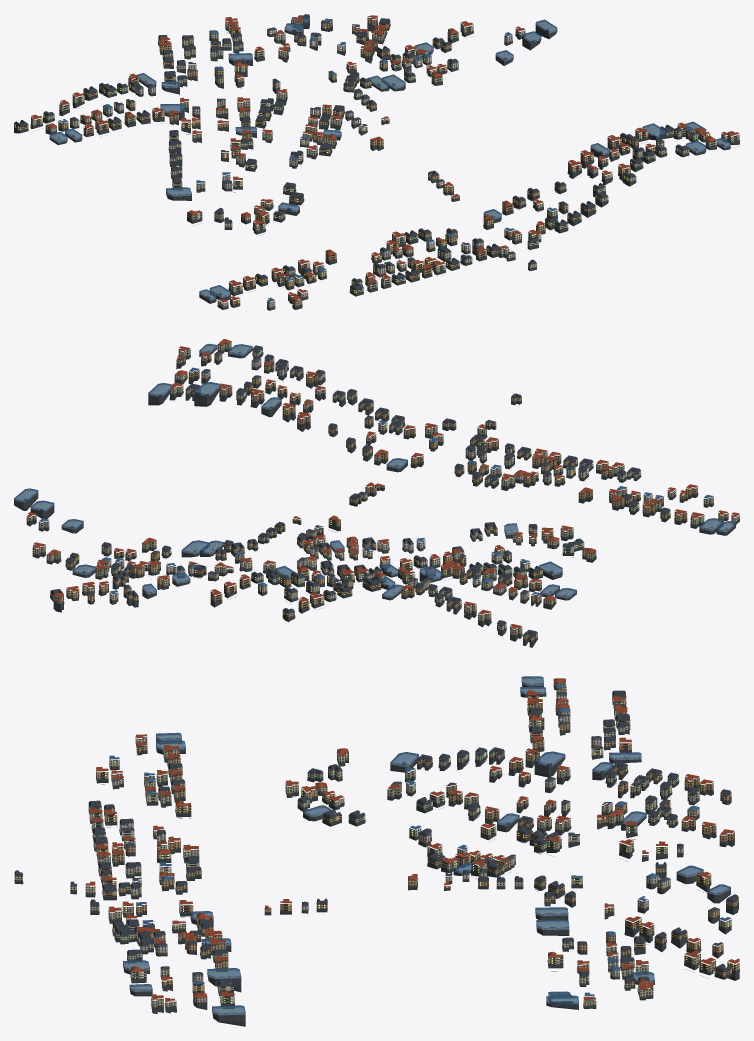
Rendered from osm_buildings_T_E02_N02_Q2.glb.
The picture shows the model from 3 angles, top to bottom: view 1: azimuth 30°, elevation 25°; view 2: azimuth 150°, elevation 25°; view 3: azimuth 270°, elevation 25°; orthographic projection. The views are drawn at different scales.
Parts seen in each view (by area): view 1: OSM_T_E02_N02_Q2_foundation, OSM_T_E02_N02_Q2_wall_cream_stucco, OSM_T_E02_N02_Q2_wall_french_ochre, OSM_T_E02_N02_Q2_roof_terracotta, OSM_T_E02_N02_Q2_roof_mansard_slate, OSM_T_E02_N02_Q2_greenhouse_blend, OSM_T_E02_N02_Q2_roof_mansard_deck, OSM_T_E02_N02_Q2_roof_mint_metal, OSM_T_E02_N02_Q2_wall_warm_white, OSM_T_E02_N02_Q2_wall_pastel_sand, OSM_T_E02_N02_Q2_balcony_railing, OSM_T_E02_N02_Q2_trim_cornice (+2 smaller); view 2: OSM_T_E02_N02_Q2_foundation, OSM_T_E02_N02_Q2_wall_french_ochre, OSM_T_E02_N02_Q2_wall_cream_stucco, OSM_T_E02_N02_Q2_roof_terracotta, OSM_T_E02_N02_Q2_roof_mansard_slate, OSM_T_E02_N02_Q2_greenhouse_blend, OSM_T_E02_N02_Q2_roof_mansard_deck, OSM_T_E02_N02_Q2_roof_mint_metal, OSM_T_E02_N02_Q2_trim_cornice, OSM_T_E02_N02_Q2_wall_warm_white, OSM_T_E02_N02_Q2_wall_pastel_sand, OSM_T_E02_N02_Q2_roof_alpine_blue (+2 smaller); view 3: OSM_T_E02_N02_Q2_foundation, OSM_T_E02_N02_Q2_wall_cream_stucco, OSM_T_E02_N02_Q2_wall_french_ochre, OSM_T_E02_N02_Q2_roof_terracotta, OSM_T_E02_N02_Q2_roof_mansard_slate, OSM_T_E02_N02_Q2_greenhouse_blend, OSM_T_E02_N02_Q2_roof_mansard_deck, OSM_T_E02_N02_Q2_trim_cornice, OSM_T_E02_N02_Q2_wall_warm_white, OSM_T_E02_N02_Q2_roof_mint_metal, OSM_T_E02_N02_Q2_wall_pastel_sand, OSM_T_E02_N02_Q2_roof_alpine_blue (+2 smaller).
Boxes of the visible parts, <box> form: OSM_T_E02_N02_Q2_foundation: <box>14,20,739,310</box>; OSM_T_E02_N02_Q2_wall_cream_stucco: <box>31,20,739,308</box>; OSM_T_E02_N02_Q2_wall_french_ochre: <box>14,16,710,306</box>; OSM_T_E02_N02_Q2_roof_terracotta: <box>31,15,739,302</box>; OSM_T_E02_N02_Q2_roof_mansard_slate: <box>14,15,697,289</box>; OSM_T_E02_N02_Q2_greenhouse_blend: <box>49,17,730,300</box>; OSM_T_E02_N02_Q2_roof_mansard_deck: <box>16,14,729,300</box>; OSM_T_E02_N02_Q2_roof_mint_metal: <box>14,23,739,307</box>; OSM_T_E02_N02_Q2_wall_warm_white: <box>135,29,705,274</box>; OSM_T_E02_N02_Q2_wall_pastel_sand: <box>70,34,681,307</box>; OSM_T_E02_N02_Q2_balcony_railing: <box>15,20,738,307</box>; OSM_T_E02_N02_Q2_trim_cornice: <box>14,17,738,303</box>; OSM_T_E02_N02_Q2_foundation: <box>14,347,739,647</box>; OSM_T_E02_N02_Q2_wall_french_ochre: <box>50,354,728,641</box>; OSM_T_E02_N02_Q2_wall_cream_stucco: <box>26,341,713,635</box>; OSM_T_E02_N02_Q2_roof_terracotta: <box>27,339,739,628</box>; OSM_T_E02_N02_Q2_roof_mansard_slate: <box>50,346,670,637</box>; OSM_T_E02_N02_Q2_greenhouse_blend: <box>14,343,735,598</box>; OSM_T_E02_N02_Q2_roof_mansard_deck: <box>22,345,734,634</box>; OSM_T_E02_N02_Q2_roof_mint_metal: <box>27,349,728,645</box>; OSM_T_E02_N02_Q2_trim_cornice: <box>27,342,736,637</box>; OSM_T_E02_N02_Q2_wall_warm_white: <box>174,358,588,588</box>; OSM_T_E02_N02_Q2_wall_pastel_sand: <box>38,370,739,600</box>; OSM_T_E02_N02_Q2_roof_alpine_blue: <box>39,367,713,596</box>; OSM_T_E02_N02_Q2_foundation: <box>14,680,739,1026</box>; OSM_T_E02_N02_Q2_wall_cream_stucco: <box>14,680,731,1007</box>; OSM_T_E02_N02_Q2_wall_french_ochre: <box>93,686,739,991</box>; OSM_T_E02_N02_Q2_roof_terracotta: <box>85,678,739,1001</box>; OSM_T_E02_N02_Q2_roof_mansard_slate: <box>14,691,738,986</box>; OSM_T_E02_N02_Q2_greenhouse_blend: <box>123,676,730,1015</box>; OSM_T_E02_N02_Q2_roof_mansard_deck: <box>15,682,736,1013</box>; OSM_T_E02_N02_Q2_trim_cornice: <box>15,683,738,1005</box>; OSM_T_E02_N02_Q2_wall_warm_white: <box>119,738,683,1002</box>; OSM_T_E02_N02_Q2_roof_mint_metal: <box>17,701,739,1011</box>; OSM_T_E02_N02_Q2_wall_pastel_sand: <box>112,693,648,1001</box>; OSM_T_E02_N02_Q2_roof_alpine_blue: <box>109,684,730,996</box>.
Bounding box in the file's own units: 952 × 110 × 935.
Materials: 16 (16 with a texture image).
